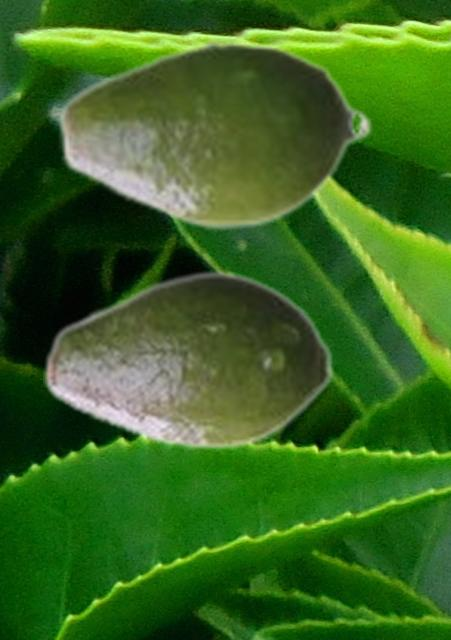avocado: (55, 36, 373, 232), (43, 269, 334, 451)
